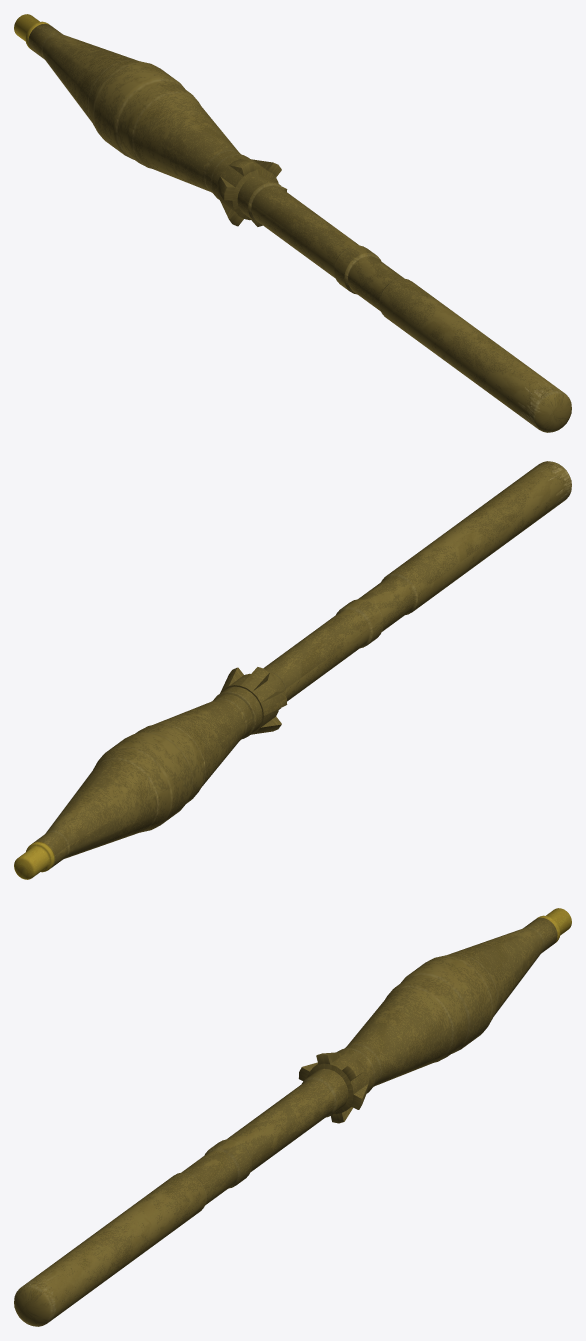
File: RPG-7_Bullet.gltf
The picture shows the model from 3 angles, top to bottom: view 1: azimuth 30°, elevation 25°; view 2: azimuth 150°, elevation 25°; view 3: azimuth 330°, elevation 25°; orthographic projection.
Visible parts, largest first — view 1: rpg7_warhead; view 2: rpg7_warhead; view 3: rpg7_warhead.
Boxes of the visible parts, x1,y1,x2,y2 form: rpg7_warhead: [14, 14, 571, 432]; rpg7_warhead: [14, 461, 571, 879]; rpg7_warhead: [14, 908, 571, 1326].
Bounding box in the file's own units: 0.0651 × 0.0651 × 0.7666.
Materials: 1 (1 with a texture image).
